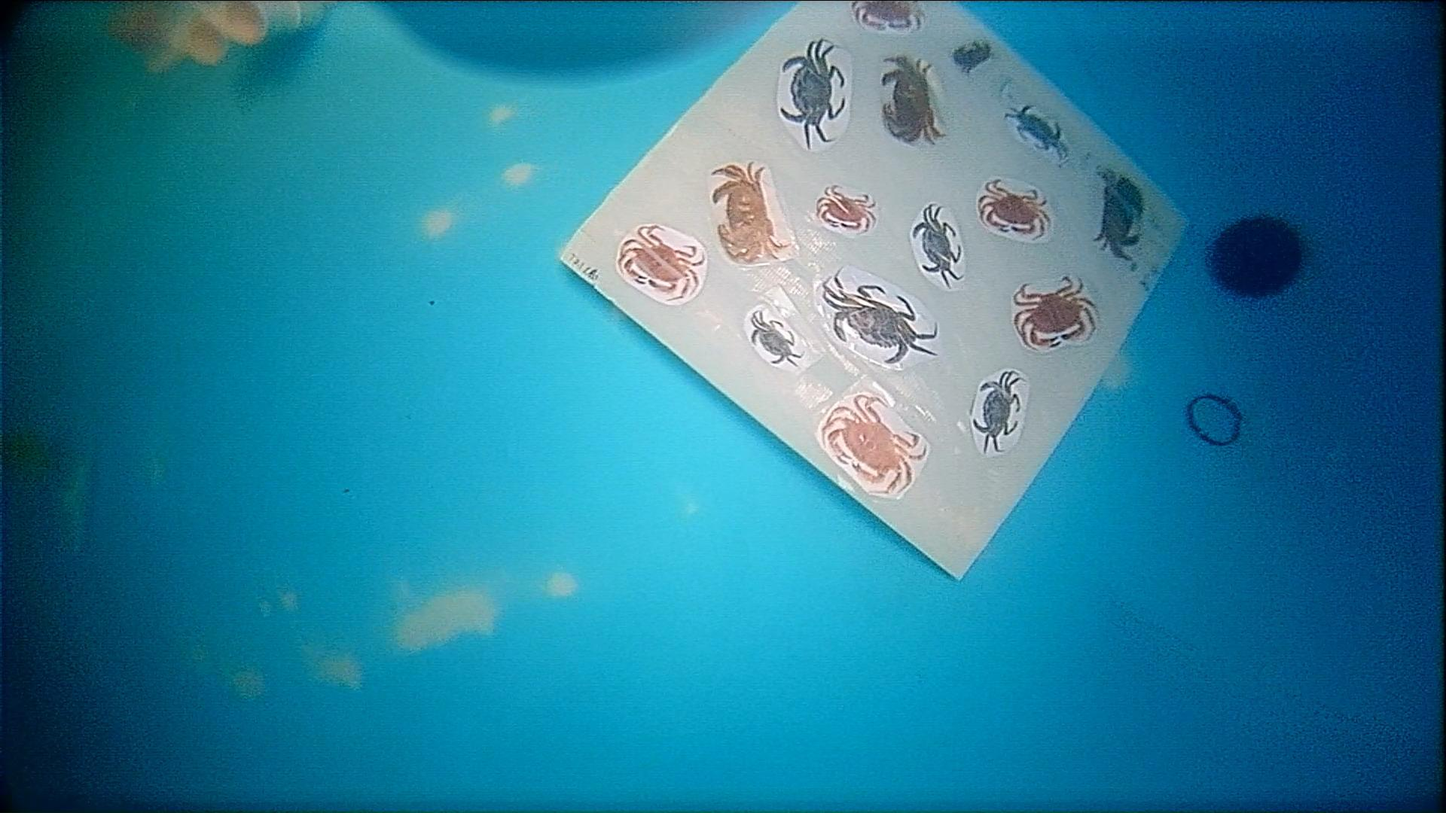GreenCrab: (822, 273, 936, 363), (780, 39, 846, 148), (972, 371, 1021, 452), (911, 205, 961, 282)
